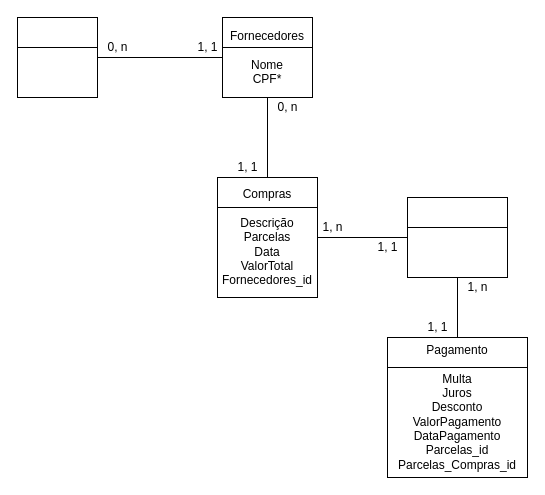
The diagram is 545 pixels wide and 495 high, and some of its shapes have lost their labels. The centre of each missing label's shape, as x and y in pixels:
"Empresa Nome CNPJ*" goes at (x=57, y=57).
"Parcelas Valor DataVencimento Compras_id" goes at (x=457, y=237).
